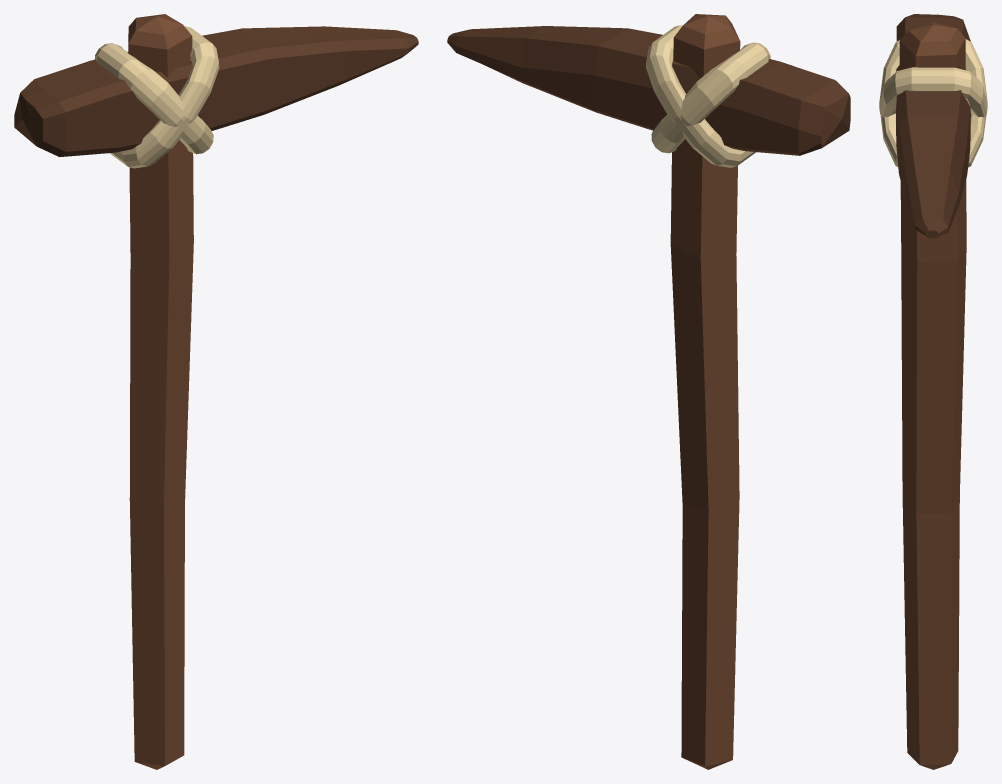
File:  WoodenPickaxe.fbx
3 views of the same model, side by side, from view 1: azimuth 30°, elevation 25°; view 2: azimuth 150°, elevation 25°; view 3: azimuth 270°, elevation 25° (orthographic).
Visible parts, largest first — view 1: Wooden Pickaxe; view 2: Wooden Pickaxe; view 3: Wooden Pickaxe.
Part boxes in pixels (<box>): Wooden Pickaxe: <box>14,14,418,769</box>; Wooden Pickaxe: <box>447,14,850,769</box>; Wooden Pickaxe: <box>879,14,987,769</box>.
Bounding box in the file's own units: 236 × 433 × 57.22.
